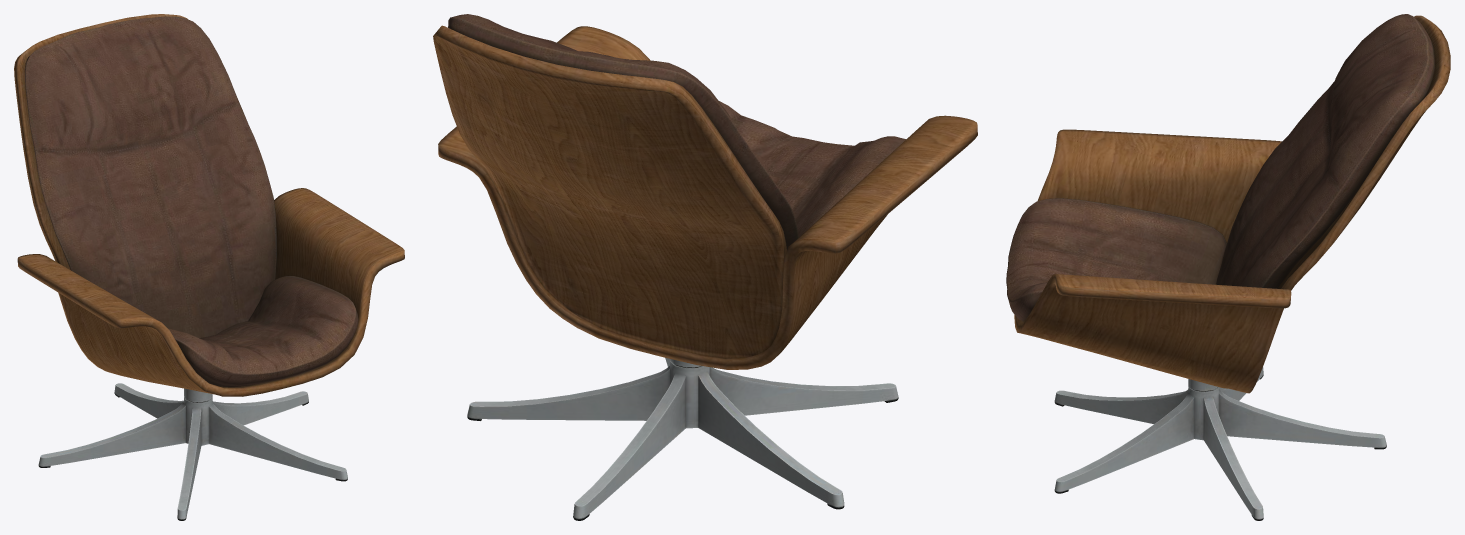
File: mid_century_lounge_chair.glb
3 renders of one model, left to right at view 1: azimuth 30°, elevation 25°; view 2: azimuth 150°, elevation 25°; view 3: azimuth 270°, elevation 25°, orthographic. The views are drawn at different scales.
Parts seen in each view (by area): view 1: mid_century_lounge_chair; view 2: mid_century_lounge_chair; view 3: mid_century_lounge_chair.
Boxes of the visible parts, x1,y1,x2,y2 form: mid_century_lounge_chair: [14, 14, 404, 520]; mid_century_lounge_chair: [433, 14, 977, 520]; mid_century_lounge_chair: [1006, 14, 1450, 520].
Size of the model in its own units: 1.01 by 1.17 by 1.19.
1 material, 1 textured.
